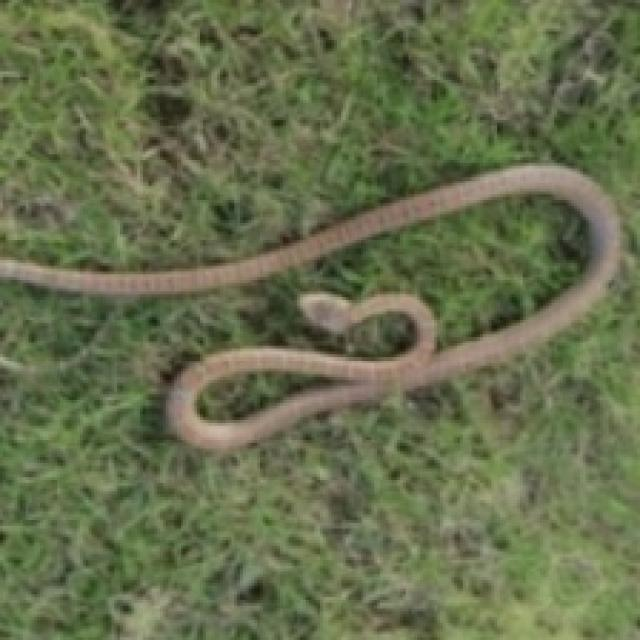paradise tree snake: (0, 163, 620, 449)
